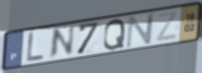7: (77, 21, 101, 56)
L: (25, 31, 45, 63)
N: (125, 12, 157, 50), (48, 23, 77, 61)
Q: (102, 18, 127, 52)
Z: (155, 9, 180, 44)
